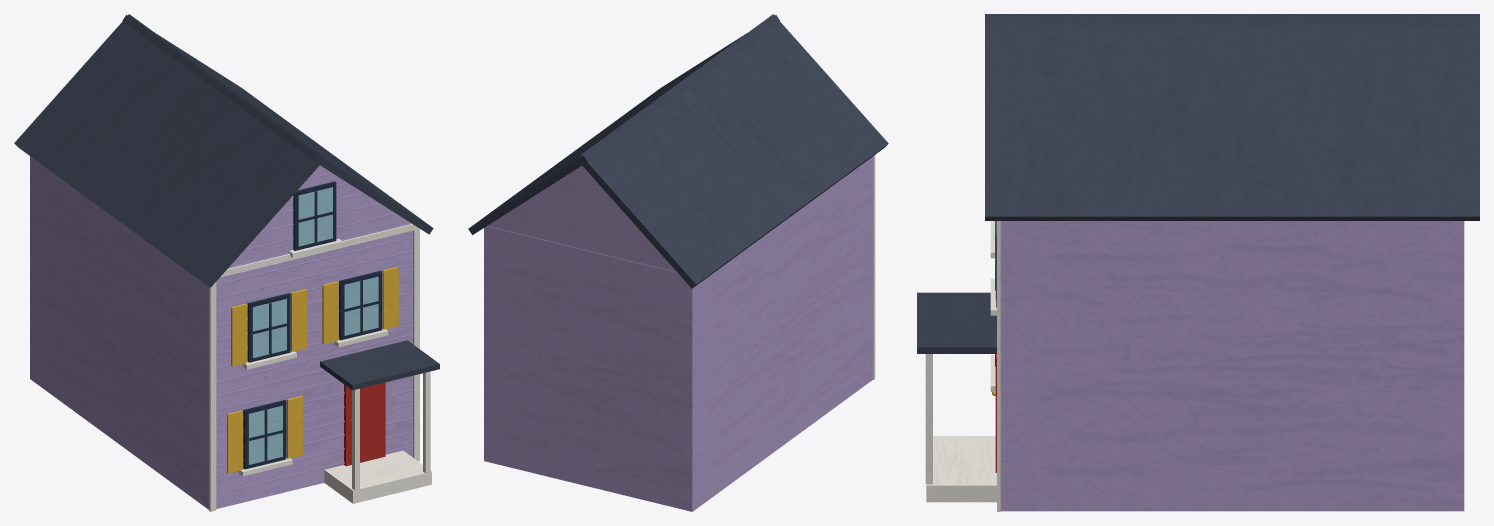
File: townhouse_purple.glb
3 renders of one model, left to right at view 1: azimuth 30°, elevation 25°; view 2: azimuth 150°, elevation 25°; view 3: azimuth 270°, elevation 25°, orthographic. The views are drawn at different scales.
Parts seen in each view (by area): view 1: townhouse; view 2: townhouse; view 3: townhouse.
Boxes of the visible parts, bbox=[...] form: townhouse: bbox=[14, 14, 439, 511]; townhouse: bbox=[468, 14, 888, 511]; townhouse: bbox=[917, 14, 1479, 511].
Bounding box in the file's own units: 5.47 × 7.69 × 9.1.
Materials: 12 (12 with a texture image).
